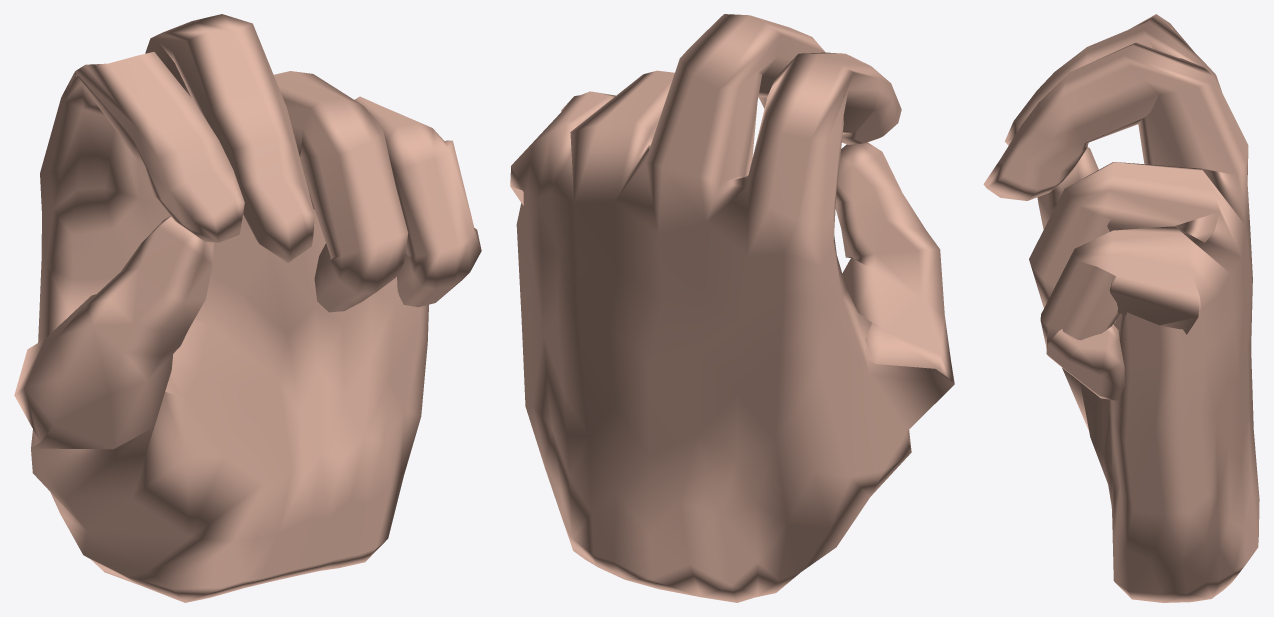
File: _3DEDOS_O.obj
3 renders of one model, left to right at view 1: azimuth 30°, elevation 25°; view 2: azimuth 150°, elevation 25°; view 3: azimuth 270°, elevation 25°, orthographic. The views are drawn at different scales.
Parts seen in each view (by area): view 1: mao_dir polySurface1; view 2: mao_dir polySurface1; view 3: mao_dir polySurface1.
Boxes of the visible parts, x1,y1,x2,y2 form: mao_dir polySurface1: (14,14,481,602); mao_dir polySurface1: (510,14,954,602); mao_dir polySurface1: (983,14,1259,602).
Bounding box in the file's own units: 138 × 177 × 90.25.
